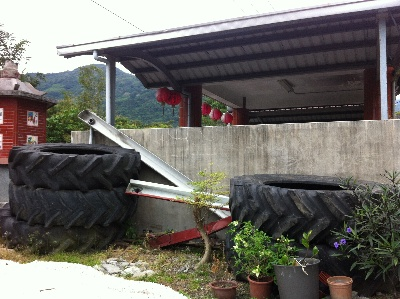tire: (227, 174, 400, 247), (7, 141, 141, 193), (1, 202, 132, 254), (6, 180, 140, 228)
